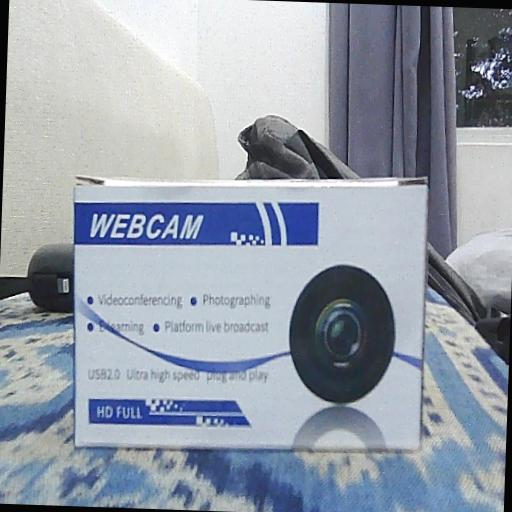webcam_box: (64, 162, 430, 459)
